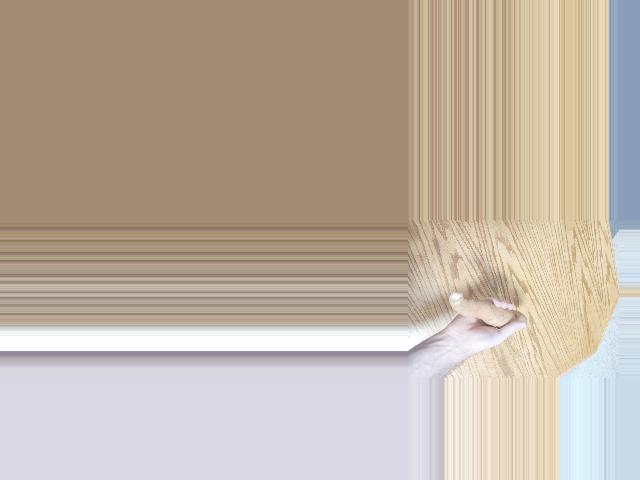sweet_potato: (443, 293, 530, 327)
